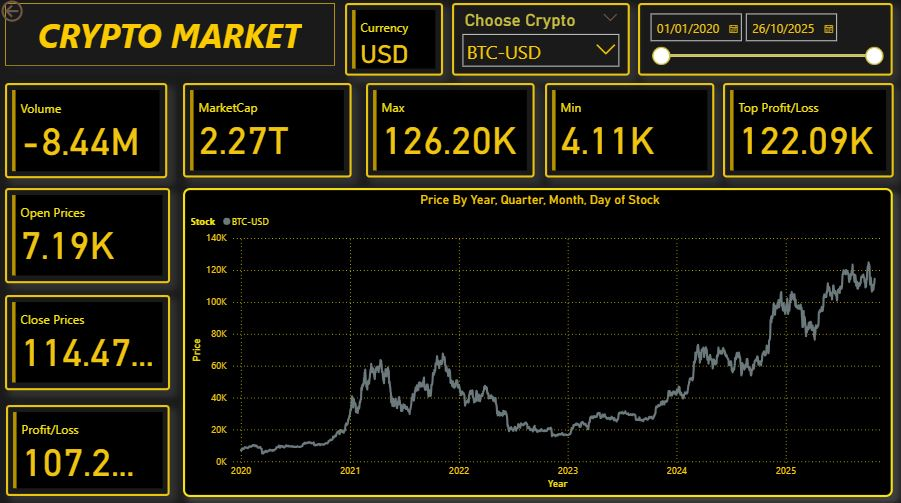

Layout of this report page (visuals, bound fields, positions):
{"tool":"powerbi","page":{"name":"Crypto Price","canvas":[1280,720],"ordinal":4},"visuals":[{"type":"lineChart","title":"Price By Year, Quarter, Month, Day of Stock","fields":{"Series":["crypto_data.Ticker"],"Y":["Sum(crypto_data.Close)"],"Category":["crypto_data.Date.Variation.Date Hierarchy.Year","crypto_data.Date.Variation.Date Hierarchy.Quarter","crypto_data.Date.Variation.Date Hierarchy.Month","crypto_data.Date.Variation.Date Hierarchy.Day"]},"box":[262.2,270.7,1006.3,438],"z":0},{"type":"slicer","fields":{"Values":["crypto_data.Ticker"]},"box":[643.5,8.5,252.3,103.5],"z":1000},{"type":"slicer","fields":{"Values":["crypto_data.Date"]},"box":[907.1,8.5,361.4,103.5],"z":2000},{"type":"cardVisual","fields":{"Data":["Min(crypto_data.Low)"]},"box":[774.6,122.4,240.3,134.3],"z":3000},{"type":"cardVisual","fields":{"Data":["Max(crypto_data.High)"]},"box":[520.9,122.4,238.8,134.3],"z":4000},{"type":"cardVisual","fields":{"Data":["crypto_data.Topp Profit/Loss"]},"box":[1026.9,122.4,241.8,134.3],"z":5000},{"type":"cardVisual","fields":{"Data":["select","crypto_data.Open Prices"]},"box":[9.9,270.7,233.9,134.6],"z":6000},{"type":"cardVisual","fields":{"Data":["select","crypto_data.Close Prices"]},"box":[9.9,422.4,233.9,134.6],"z":7000},{"type":"cardVisual","fields":{"Data":["select","crypto_data.Profit/Losss"]},"box":[11.3,578.3,232.4,129],"z":8000},{"type":"cardVisual","fields":{"Data":["Avg(crypto_data.Volume)"]},"box":[9.9,121.9,229.6,135],"z":9000},{"type":"cardVisual","fields":{"Data":["Min(crypto_data.Currency)"]},"box":[491.8,8.5,138.9,103.5],"z":10000},{"type":"cardVisual","fields":{"Data":["Avg(crypto_data.MarketCap)"]},"box":[262.7,122.4,238.8,134.3],"z":11000},{"type":"shape","title":"STOCK MARKET","box":[9.9,8.5,467.7,89.3],"z":12000},{"type":"actionButton","box":[0,0,100,40],"z":13000}]}

Visuals, with their boxes in screenshot pixels (x1, y1, x2, y2), scaled from the page's 1280x720 canvas onto the 901x503 screenshot:
"Price By Year, Quarter, Month, Day of Stock" lineChart: crop(185, 189, 893, 495)
slicer - crypto_data.Ticker: crop(453, 6, 631, 78)
slicer - crypto_data.Date: crop(639, 6, 893, 78)
cardVisual - Min(crypto_data.Low): crop(545, 86, 714, 179)
cardVisual - Max(crypto_data.High): crop(367, 86, 535, 179)
cardVisual - crypto_data.Topp Profit/Loss: crop(723, 86, 893, 179)
cardVisual - select x crypto_data.Open Prices: crop(7, 189, 172, 283)
cardVisual - select x crypto_data.Close Prices: crop(7, 295, 172, 389)
cardVisual - select x crypto_data.Profit/Losss: crop(8, 404, 172, 494)
cardVisual - Avg(crypto_data.Volume): crop(7, 85, 169, 179)
cardVisual - Min(crypto_data.Currency): crop(346, 6, 444, 78)
cardVisual - Avg(crypto_data.MarketCap): crop(185, 86, 353, 179)
"STOCK MARKET" shape: crop(7, 6, 336, 68)
actionButton: crop(0, 0, 70, 28)
